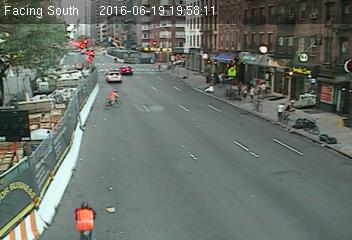neg: (67, 195, 99, 238), (98, 82, 124, 117), (301, 118, 320, 143), (201, 83, 219, 107), (329, 131, 344, 151), (107, 52, 119, 67), (253, 102, 264, 118)
pos: (271, 98, 290, 124), (280, 102, 298, 126), (238, 86, 253, 107), (245, 85, 260, 105)
